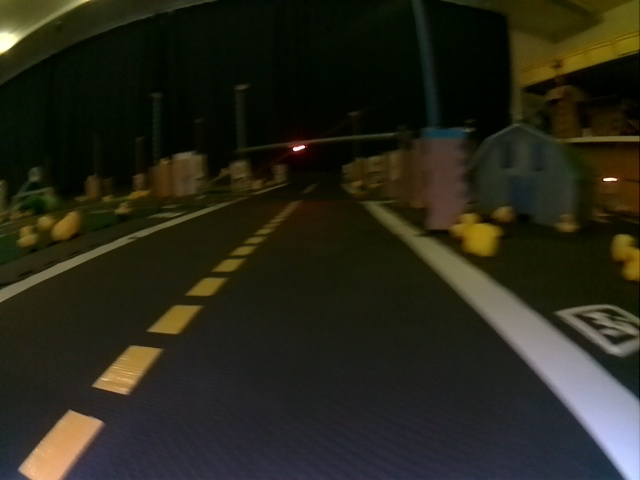Duckie: (462, 224, 501, 258), (556, 214, 578, 234)
QR code: (556, 304, 639, 356)
